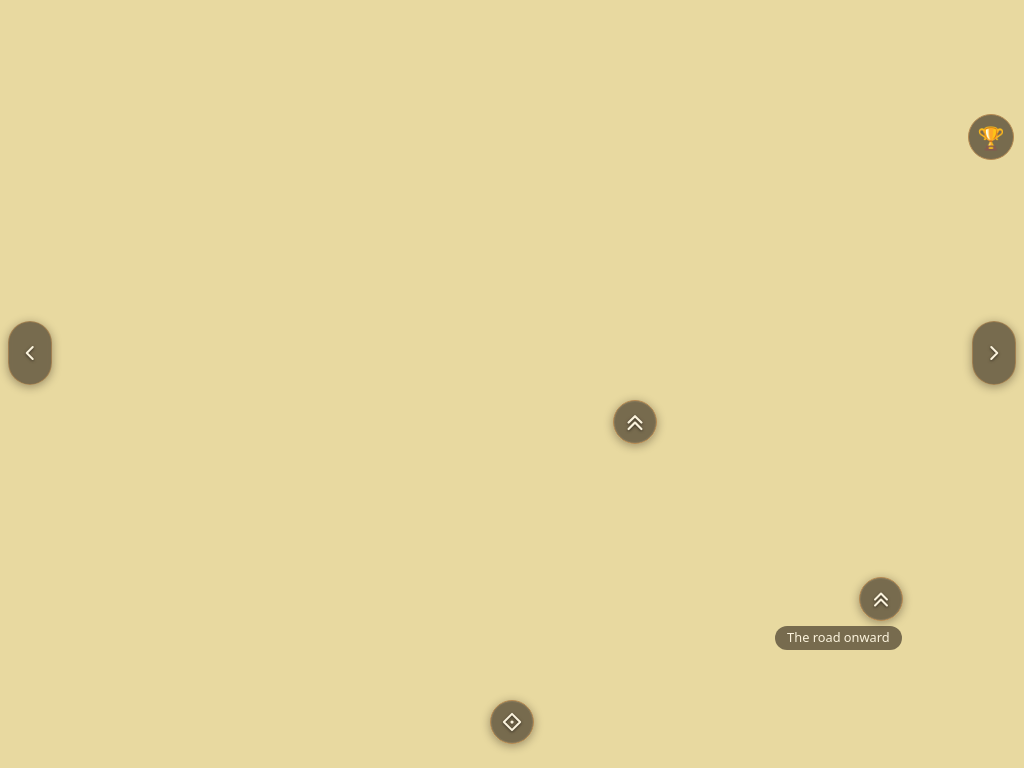
Scenario: achievements panel › shows an empty state when the player has no catalog rows yet
Step 1. Click the button with test id "open-achievements" → [991, 137], box [968,114,1014,160]
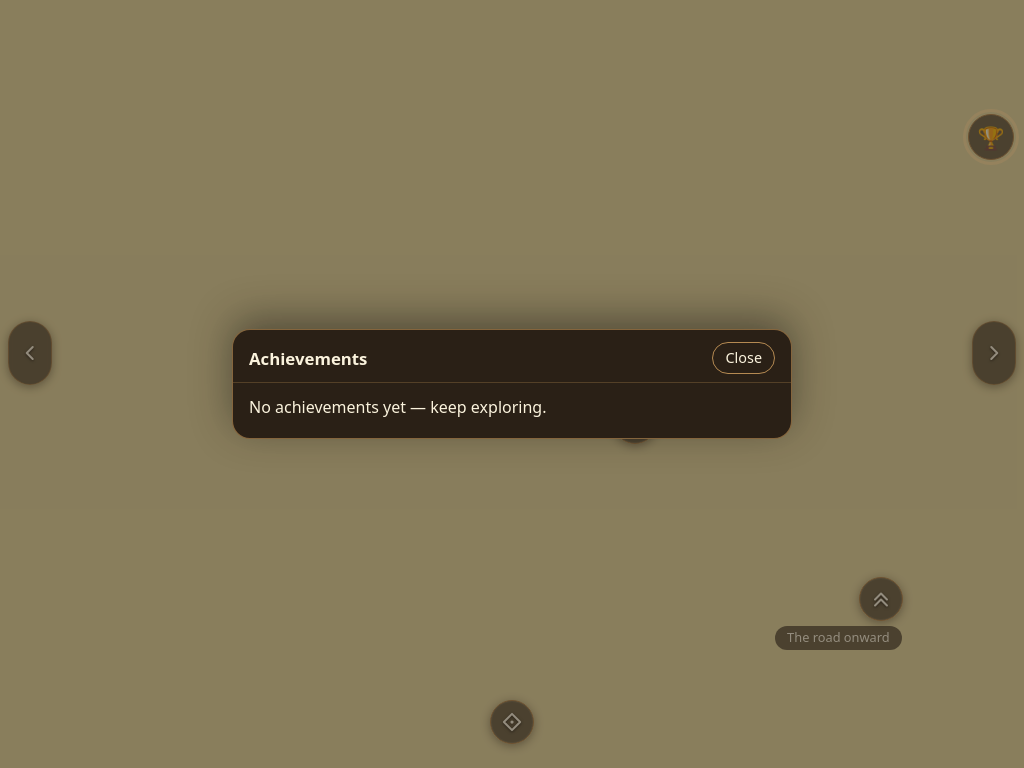
Expected: the text "No achievements yet — keep exploring." is shown, [249,396,546,418]
